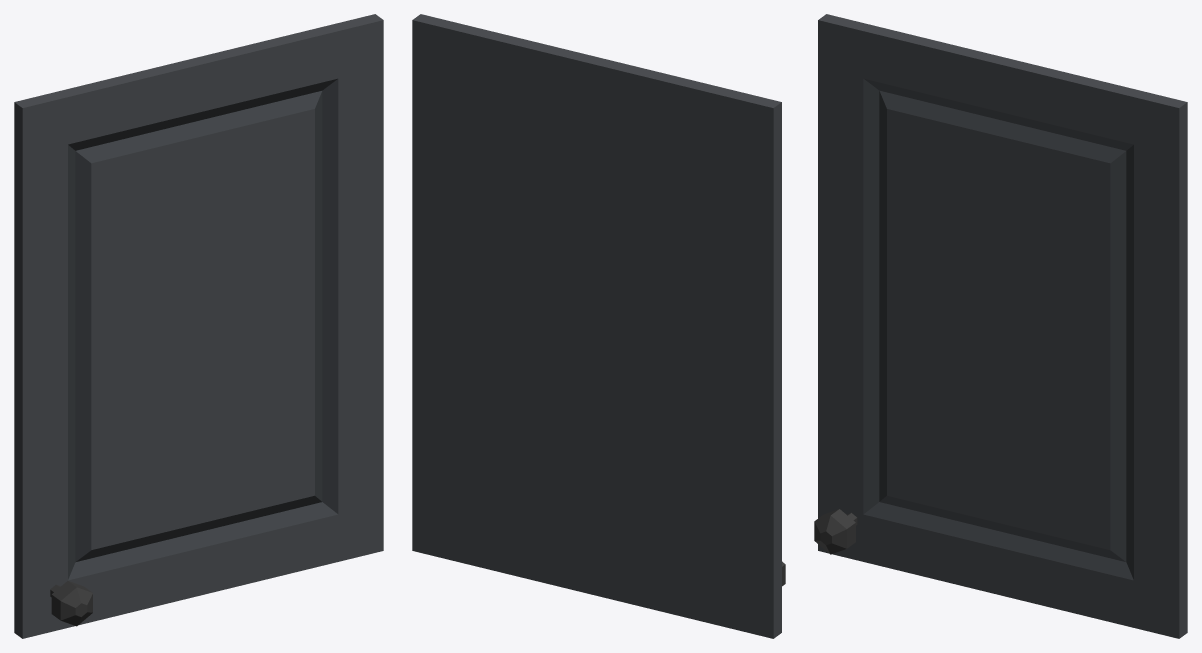
The model's file is Wardrobe7_C2_08.fbx.
3 views of the same model, side by side, from view 1: azimuth 30°, elevation 25°; view 2: azimuth 150°, elevation 25°; view 3: azimuth 330°, elevation 25° (orthographic).
Visible parts, largest first — view 1: Wardrobe7_C2_08; view 2: Wardrobe7_C2_08; view 3: Wardrobe7_C2_08.
Boxes of the visible parts, <box> form: Wardrobe7_C2_08: <box>14,14,383,638</box>; Wardrobe7_C2_08: <box>412,14,785,638</box>; Wardrobe7_C2_08: <box>814,14,1187,638</box>.
Size of the model in its own units: 50 by 70.23 by 8.1.
